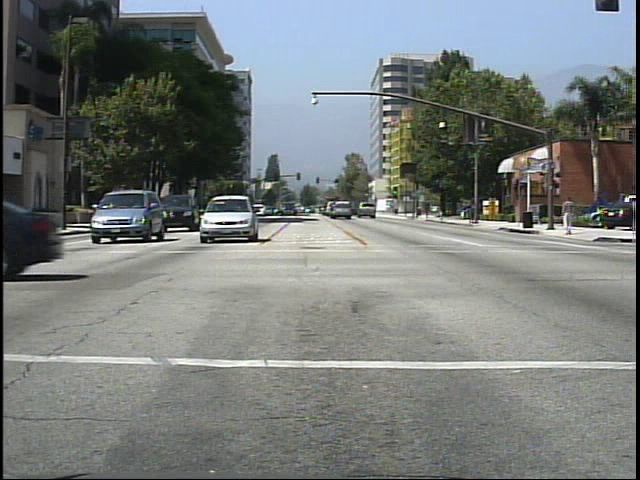person: (562, 194, 578, 239)
